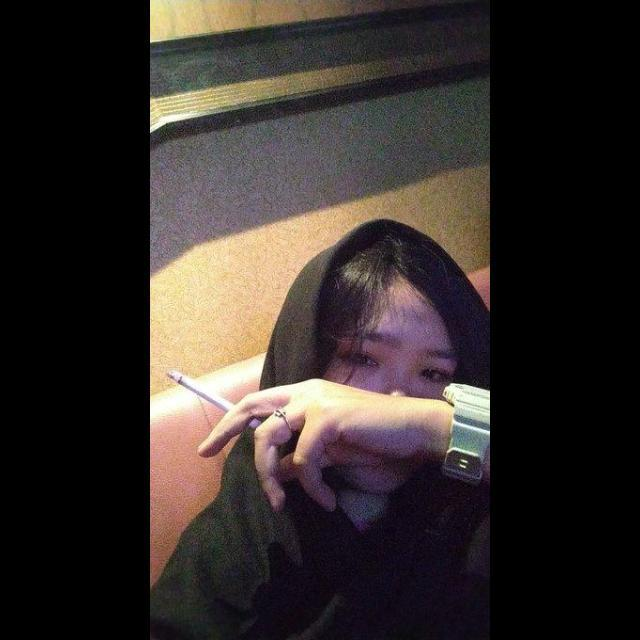rokok: (160, 362, 266, 434)
